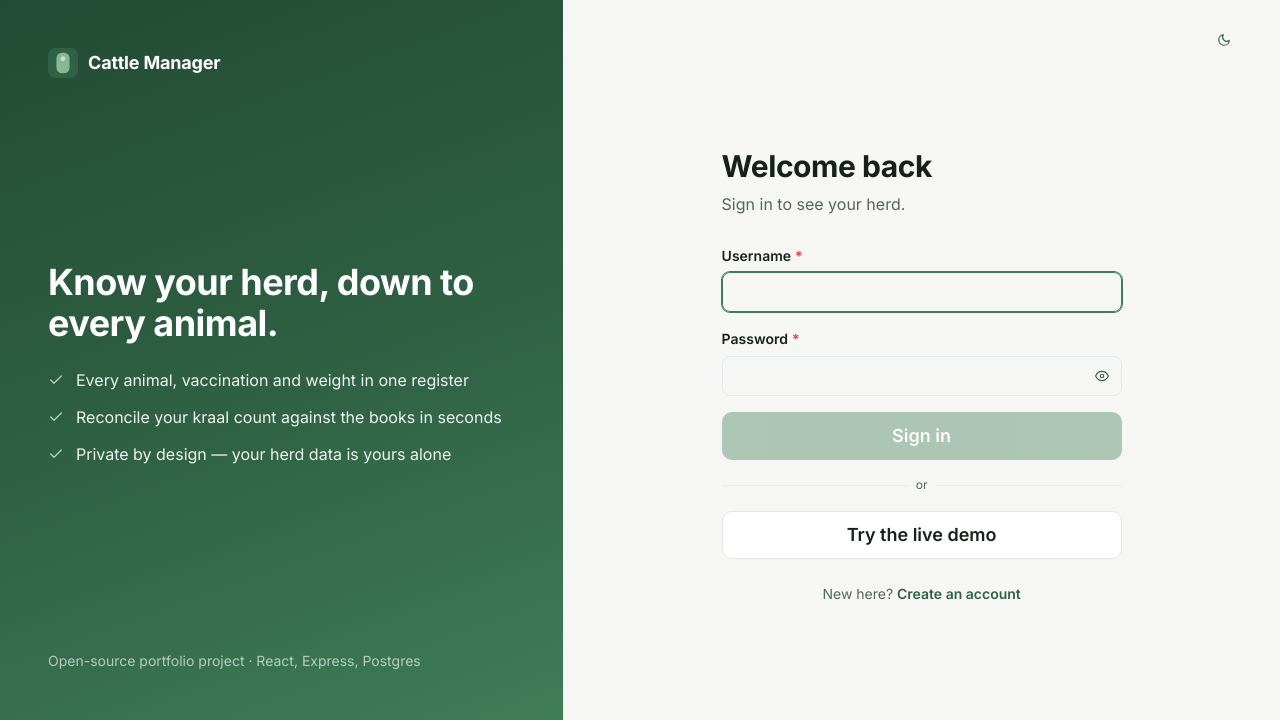
Test: Login › shows the server's error message when sign-in fails
In the field labelled "Username*": (922, 292) [722,272,1122,312], type "alice"
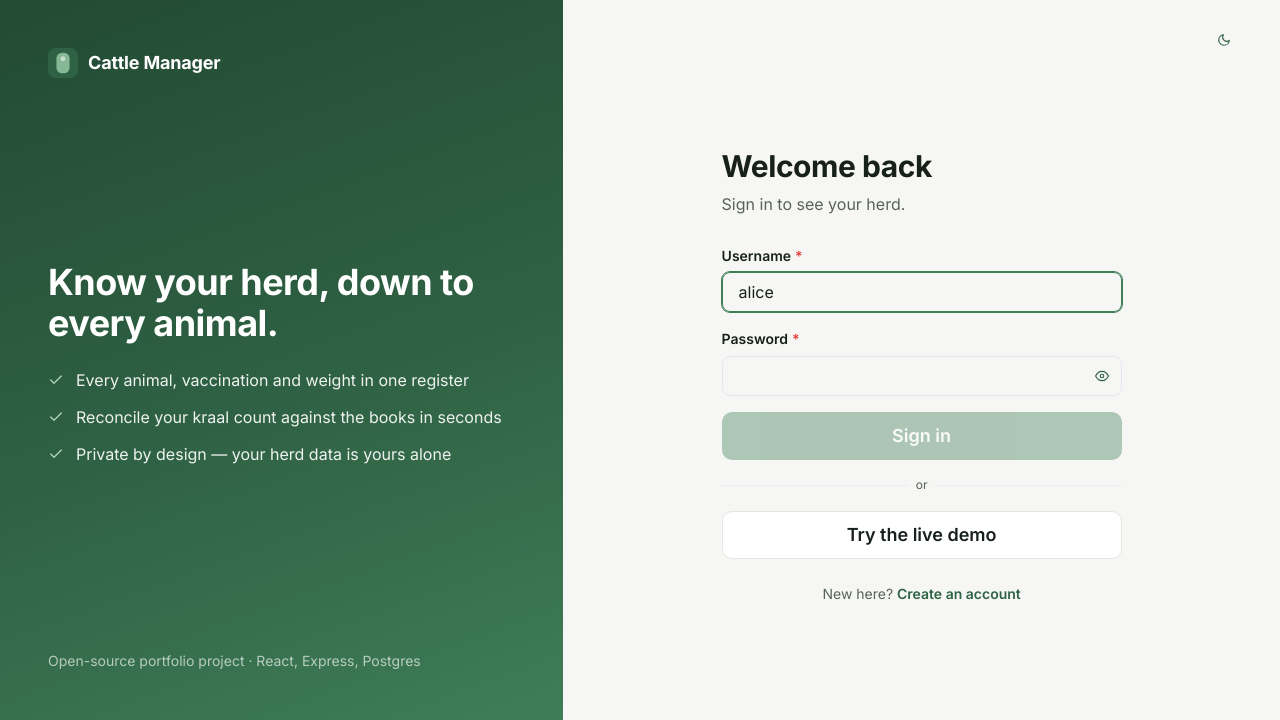
In the password field labelled "Password*": (922, 376) [722,356,1122,396], type "wrong-password-1"
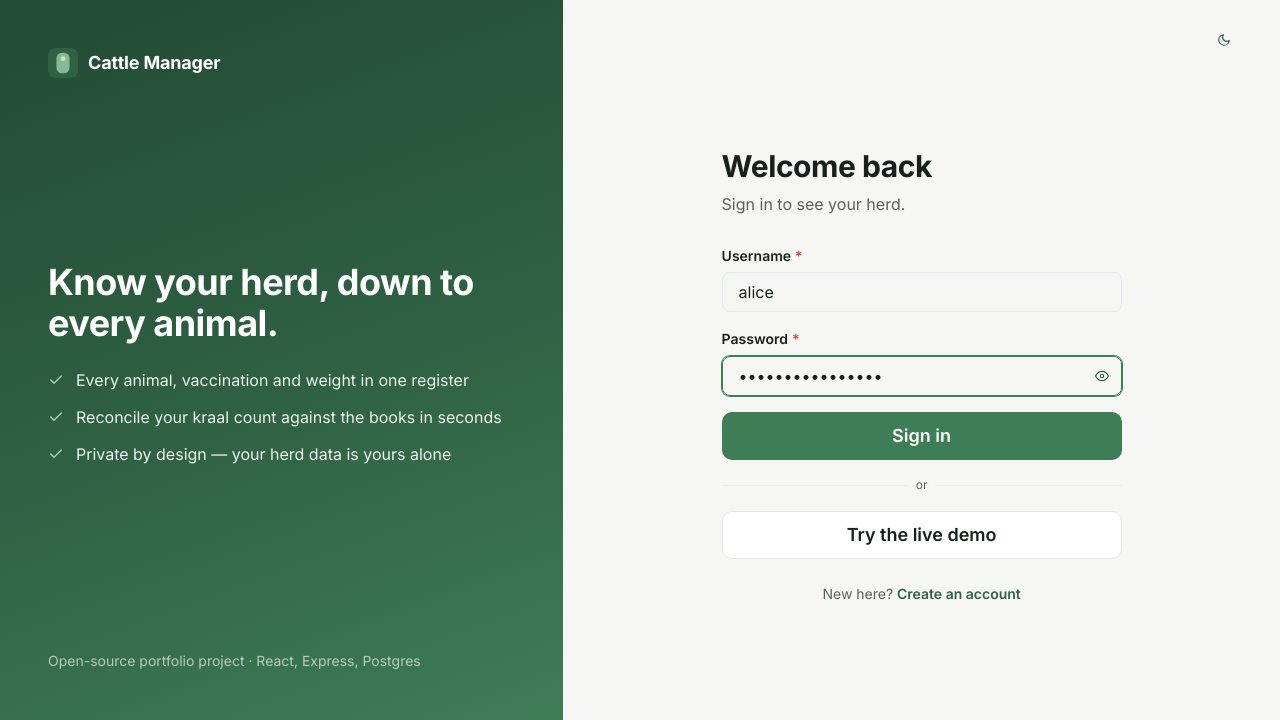
Click the button "Sign in": (922, 436) [722,412,1122,460]
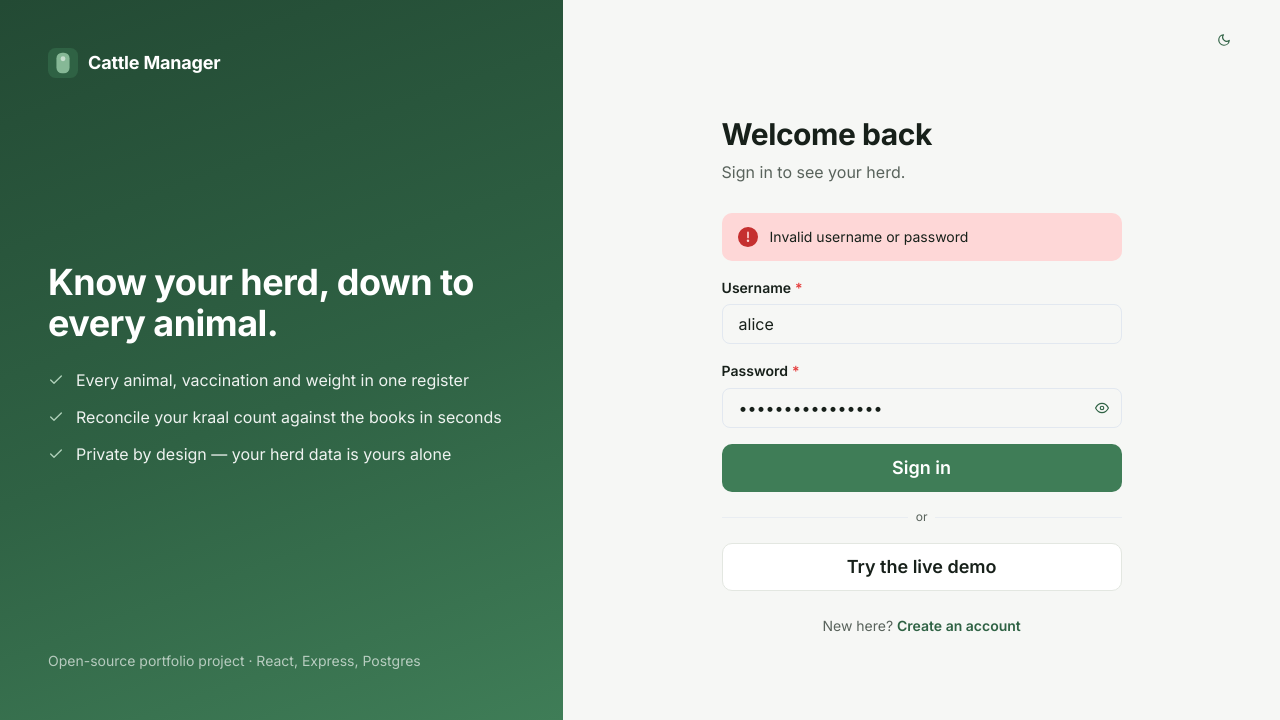
Expected: the message reads "Invalid username or password", [770,228,968,245]
